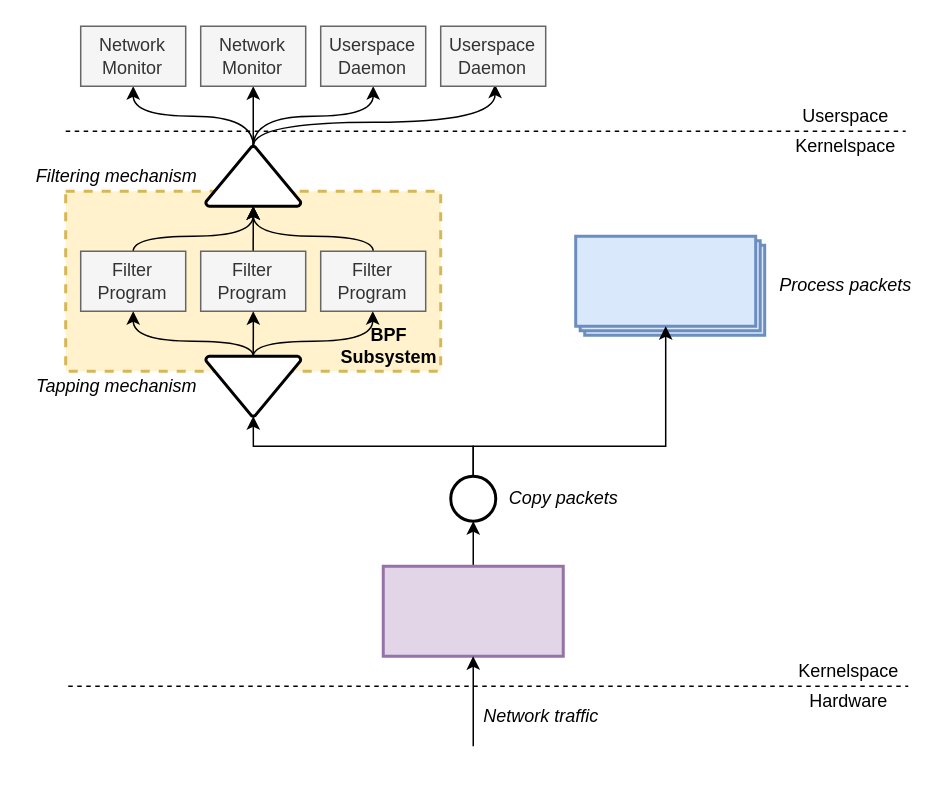
Image size: 947x785. Some labels were removed from this diagram. The centre of each missing label's shape, as x and y in pixels:
"NIC Driver(s)" belongs at point (472, 610).
"Protocol Stack" belongs at point (664, 280).
